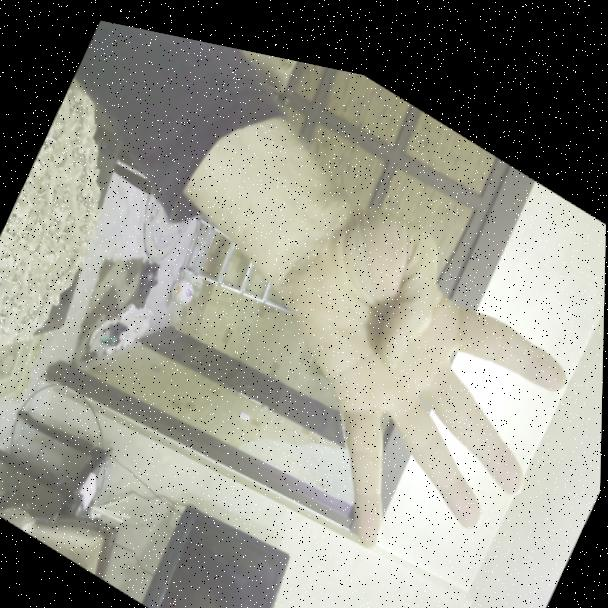four: (172, 114, 607, 608)
